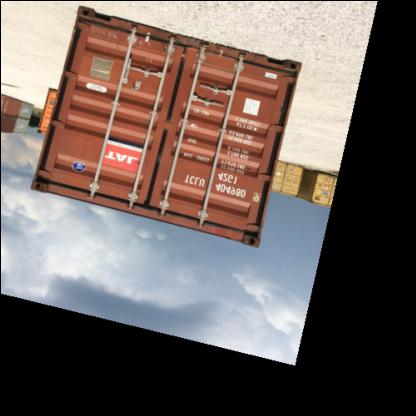Damage: (170, 40, 200, 70)
